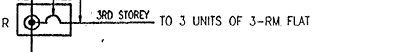Single Phase Tap-Off Unit: (13, 0, 75, 40)
